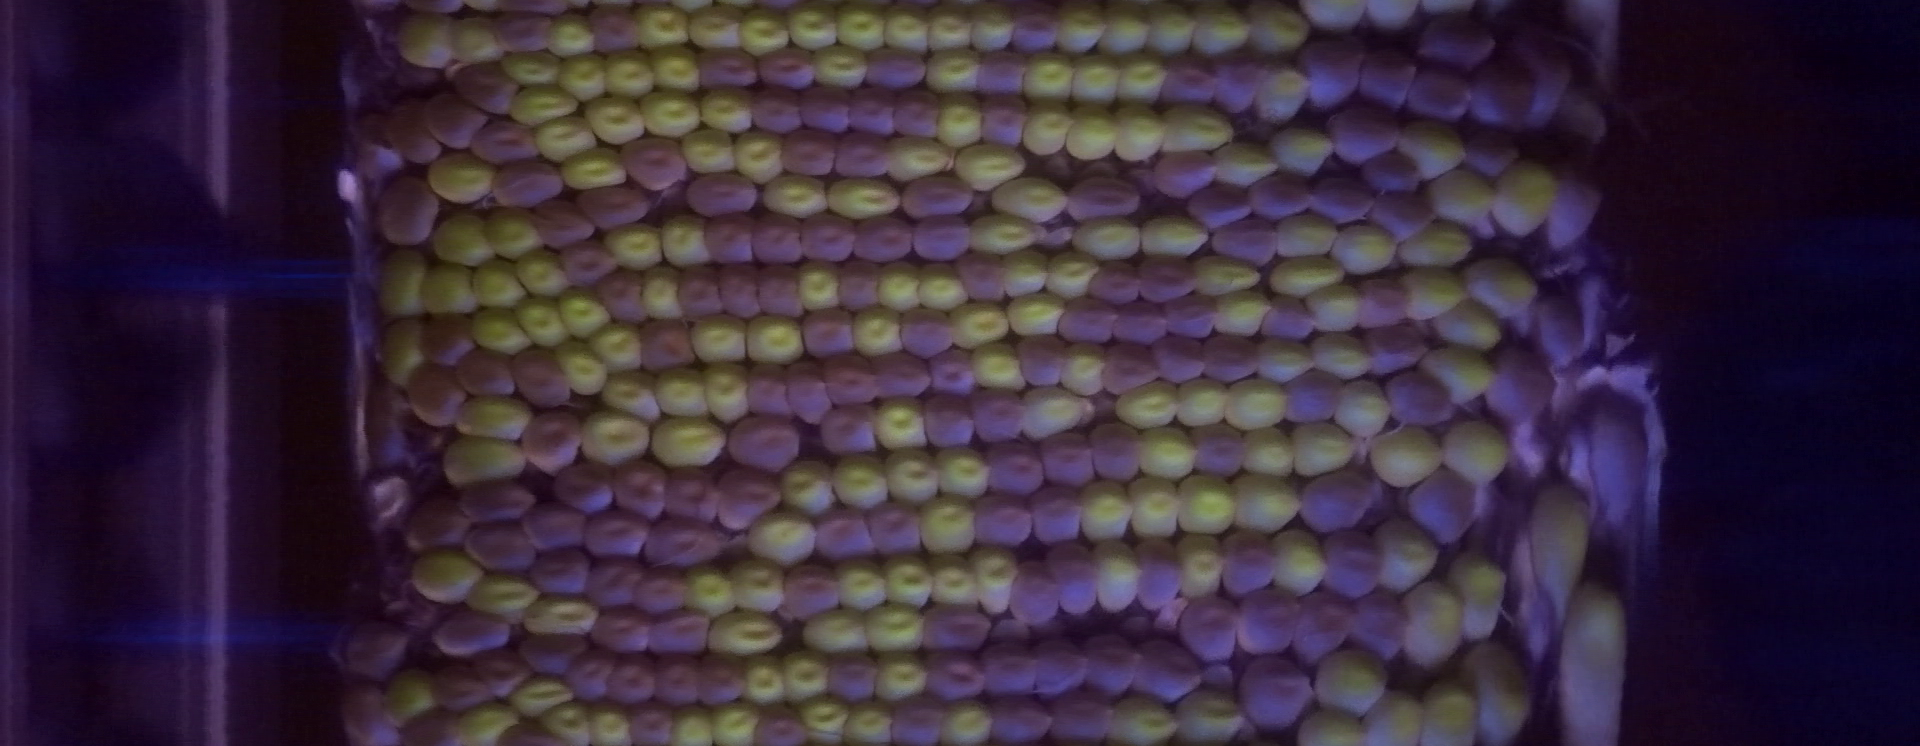fluorescent: (1555, 577, 1632, 746), (1533, 472, 1588, 594), (1464, 639, 1531, 737), (1229, 474, 1299, 534), (1418, 677, 1480, 744), (1494, 165, 1556, 230), (1442, 418, 1509, 479), (1463, 258, 1534, 315), (1318, 644, 1382, 706), (440, 434, 522, 481), (1371, 431, 1440, 486), (1409, 588, 1464, 655), (1402, 265, 1466, 321), (1374, 527, 1438, 583), (409, 551, 480, 601), (1427, 345, 1498, 394), (1404, 122, 1464, 180), (707, 612, 780, 659), (654, 414, 725, 462), (1178, 477, 1237, 534), (1438, 299, 1502, 350), (587, 412, 650, 462), (1087, 546, 1138, 609), (1179, 693, 1247, 740), (747, 514, 816, 560), (1224, 381, 1289, 429), (1272, 530, 1319, 597), (1082, 477, 1131, 539), (422, 157, 493, 200), (1155, 111, 1232, 151), (522, 597, 596, 637), (433, 216, 496, 263), (1271, 256, 1347, 295), (1293, 426, 1352, 477), (956, 145, 1025, 187), (1138, 430, 1198, 479), (1118, 381, 1180, 428), (920, 499, 975, 551), (831, 557, 889, 608), (456, 401, 531, 439), (1113, 695, 1176, 740), (397, 17, 453, 67), (1135, 477, 1179, 540), (1021, 390, 1081, 436), (998, 250, 1051, 303), (691, 312, 746, 363), (1335, 225, 1397, 269), (1190, 5, 1248, 53), (994, 181, 1067, 219), (1044, 251, 1103, 298), (1248, 6, 1311, 49), (1270, 131, 1333, 174), (1430, 174, 1494, 217), (749, 311, 802, 363), (778, 461, 830, 512), (382, 669, 433, 722), (1458, 557, 1502, 619), (828, 179, 899, 217), (729, 566, 785, 614), (970, 216, 1038, 254), (890, 137, 949, 181), (604, 225, 662, 269), (377, 260, 427, 311), (658, 216, 709, 266), (834, 458, 887, 507), (1335, 382, 1395, 425), (951, 304, 1008, 349), (600, 371, 656, 416), (1198, 255, 1262, 294), (1276, 209, 1333, 254), (1113, 111, 1162, 163), (473, 310, 531, 353), (555, 343, 604, 394), (1371, 693, 1423, 742), (883, 557, 931, 610), (1007, 294, 1067, 336), (1404, 225, 1472, 262), (384, 326, 427, 383), (1142, 216, 1207, 254), (1025, 51, 1073, 103), (876, 401, 928, 447), (1212, 295, 1271, 337), (1213, 145, 1275, 184), (735, 132, 782, 183), (704, 365, 746, 423), (1075, 219, 1138, 257), (451, 708, 519, 742), (973, 557, 1015, 614), (888, 453, 937, 501), (878, 653, 929, 698), (511, 677, 572, 715), (658, 367, 705, 415), (852, 309, 901, 355), (973, 347, 1026, 390), (512, 89, 579, 122), (560, 153, 627, 186), (1298, 709, 1363, 744), (422, 267, 469, 315), (796, 262, 841, 311), (1178, 379, 1227, 424), (877, 260, 920, 311), (1258, 339, 1310, 381), (643, 99, 700, 137), (926, 49, 980, 89), (812, 610, 866, 650), (1071, 55, 1118, 102), (1067, 108, 1114, 153), (587, 102, 645, 138), (1060, 343, 1104, 392), (1177, 545, 1221, 594), (560, 293, 610, 336), (936, 450, 986, 492), (589, 328, 643, 367), (561, 53, 609, 97), (536, 122, 598, 157), (1022, 110, 1071, 153), (516, 254, 564, 296), (872, 610, 927, 648), (1245, 430, 1291, 475), (816, 48, 864, 89), (541, 699, 590, 741), (468, 579, 539, 608), (516, 299, 560, 344), (1151, 9, 1193, 56), (703, 89, 751, 131), (489, 219, 542, 256), (768, 178, 823, 213), (1315, 334, 1367, 372), (456, 18, 501, 61), (921, 266, 967, 307), (684, 134, 732, 174), (801, 702, 849, 742), (474, 268, 523, 307), (686, 575, 735, 614), (634, 9, 688, 44), (1265, 65, 1302, 116), (932, 563, 975, 608), (642, 273, 683, 317), (782, 655, 827, 697), (1119, 61, 1164, 102), (937, 102, 980, 143), (693, 9, 743, 44), (1307, 285, 1353, 323), (744, 657, 782, 703), (503, 51, 558, 83), (651, 55, 699, 92), (1102, 7, 1146, 47), (609, 54, 653, 93), (791, 7, 834, 47), (885, 13, 929, 51), (1062, 7, 1100, 51), (838, 7, 883, 44), (945, 704, 991, 741), (550, 13, 590, 54), (927, 10, 971, 45), (741, 13, 786, 48), (845, 704, 891, 737), (672, 706, 713, 742), (718, 707, 757, 744), (973, 11, 1011, 48), (591, 710, 629, 744)
nonfluorescent: (1582, 397, 1651, 540), (1236, 655, 1321, 736), (1485, 341, 1562, 428), (1296, 28, 1367, 114), (1407, 464, 1480, 546), (1288, 589, 1362, 669), (1469, 62, 1545, 138), (1296, 470, 1378, 537), (1133, 633, 1205, 703), (1215, 526, 1282, 600), (715, 468, 787, 537), (1176, 595, 1244, 668), (376, 171, 441, 247), (1543, 176, 1608, 252), (1238, 587, 1305, 659), (729, 412, 804, 475), (1381, 366, 1457, 430), (639, 514, 725, 571), (1320, 526, 1386, 598), (1352, 590, 1414, 666), (1417, 15, 1500, 71), (1326, 107, 1403, 167), (426, 87, 493, 156), (402, 492, 474, 556), (1356, 318, 1435, 376), (452, 59, 524, 121), (384, 98, 446, 171), (1404, 66, 1478, 127), (1358, 45, 1419, 118), (1308, 171, 1382, 230), (1085, 628, 1144, 703), (431, 606, 511, 661), (344, 619, 409, 686), (1044, 688, 1120, 746), (1130, 535, 1187, 612), (611, 454, 671, 527), (1365, 187, 1444, 243), (1536, 288, 1589, 367), (465, 521, 541, 577), (620, 134, 691, 194), (1044, 543, 1102, 616), (520, 499, 595, 555), (920, 603, 997, 657), (418, 304, 482, 367), (576, 183, 654, 235), (984, 440, 1052, 501), (861, 499, 929, 559), (662, 461, 722, 529), (516, 342, 574, 412), (516, 628, 595, 680), (744, 207, 809, 269), (970, 492, 1035, 555), (811, 508, 878, 568), (342, 677, 402, 745), (1210, 216, 1284, 269), (584, 506, 654, 563), (525, 405, 582, 477), (489, 160, 568, 211), (409, 365, 470, 430), (471, 118, 549, 169), (1282, 367, 1348, 428), (1032, 635, 1093, 698), (1255, 285, 1320, 345), (432, 659, 504, 713), (471, 646, 538, 704), (850, 211, 918, 267), (459, 477, 538, 526), (970, 383, 1031, 446), (781, 562, 842, 625), (637, 316, 700, 376), (1060, 179, 1142, 225), (551, 458, 617, 516), (1005, 561, 1063, 627), (1216, 49, 1271, 118), (1038, 429, 1100, 490), (797, 209, 863, 266), (1183, 180, 1260, 228), (895, 304, 958, 363), (923, 654, 994, 706), (553, 238, 621, 292), (700, 209, 760, 269), (921, 390, 978, 452), (1161, 53, 1224, 109), (1460, 127, 1523, 184), (686, 170, 760, 218), (984, 696, 1056, 746), (798, 306, 864, 360), (645, 606, 711, 660), (902, 174, 978, 220), (1014, 331, 1071, 392), (820, 648, 882, 706), (1202, 330, 1265, 386), (1247, 171, 1316, 222), (533, 196, 598, 250), (691, 47, 768, 92), (593, 266, 650, 326), (978, 642, 1038, 699), (459, 345, 520, 402), (819, 404, 880, 461), (1195, 419, 1251, 480), (1029, 486, 1085, 548), (1153, 149, 1222, 200), (787, 356, 835, 428), (1356, 276, 1414, 333), (823, 352, 880, 410), (1090, 421, 1147, 480), (864, 45, 932, 96), (587, 608, 655, 657), (1108, 296, 1172, 349), (871, 352, 936, 403), (1057, 296, 1123, 347), (800, 81, 857, 138), (973, 47, 1032, 103), (1139, 250, 1198, 306), (1005, 4, 1065, 59), (833, 130, 895, 183), (531, 548, 594, 600), (1096, 348, 1164, 396), (778, 127, 839, 180), (1362, 151, 1427, 200), (911, 214, 976, 263), (696, 649, 752, 706), (587, 555, 642, 612), (587, 9, 650, 58), (955, 251, 1011, 306), (756, 265, 811, 321), (889, 88, 947, 142), (973, 98, 1032, 151), (631, 566, 691, 617), (889, 695, 949, 746), (847, 85, 902, 140), (744, 88, 804, 138), (1153, 334, 1209, 388), (651, 657, 707, 710), (747, 363, 793, 426), (760, 47, 820, 96), (719, 263, 767, 325), (1164, 292, 1221, 343), (924, 344, 981, 396), (678, 266, 729, 323), (398, 706, 469, 746), (496, 11, 558, 56), (564, 650, 615, 706), (748, 699, 807, 746), (835, 260, 885, 314), (605, 657, 658, 707), (1089, 258, 1142, 306), (623, 699, 677, 746), (393, 59, 453, 100)
